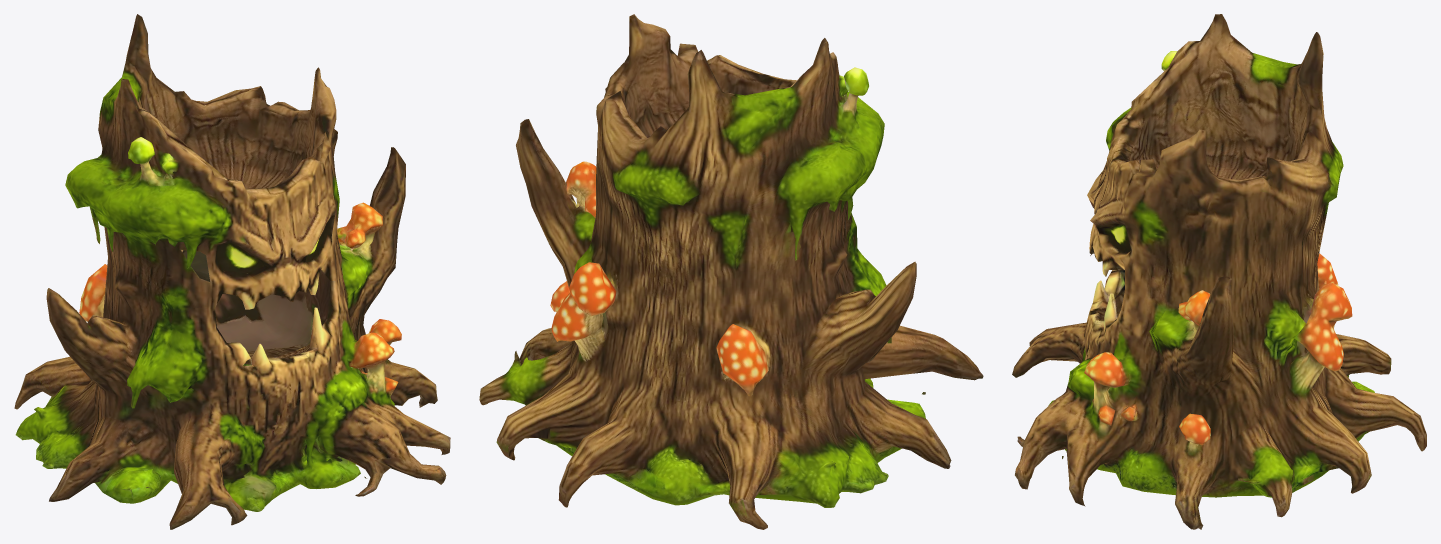
The model's file is stump.glb.
3 views of the same model, side by side, from view 1: azimuth 30°, elevation 25°; view 2: azimuth 150°, elevation 25°; view 3: azimuth 270°, elevation 25° (orthographic). The views are drawn at different scales.
Parts seen in each view (by area): view 1: Mesh_0; view 2: Mesh_0; view 3: Mesh_0.
Boxes of the visible parts, left/top/right/bottom form: Mesh_0: left=14, top=14, right=450, bottom=529; Mesh_0: left=479, top=14, right=983, bottom=529; Mesh_0: left=1012, top=14, right=1426, bottom=529.
Bounding box in the file's own units: 1.87 × 1.85 × 1.77.
Materials: 1 (1 with a texture image).
